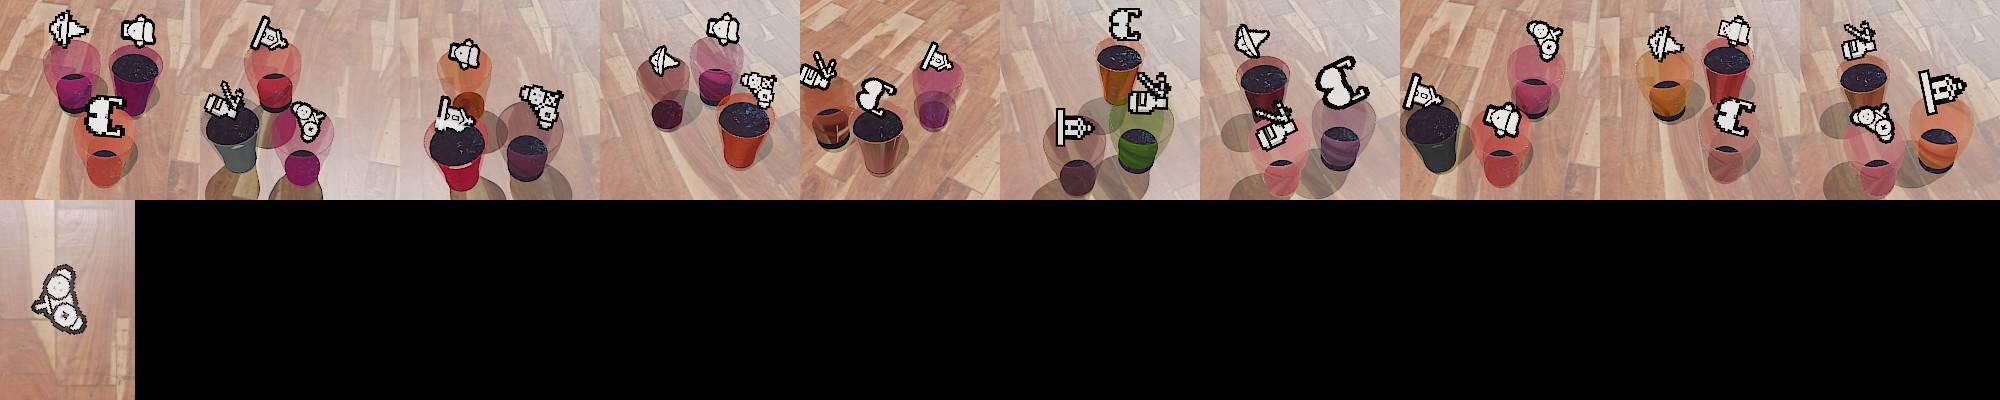icon: (30, 263, 88, 336), (1317, 54, 1372, 111), (1917, 68, 1967, 115), (1126, 69, 1173, 115), (1255, 103, 1298, 152), (519, 83, 564, 129), (1849, 102, 1897, 143), (84, 94, 128, 138), (203, 78, 246, 121), (1053, 105, 1097, 147), (1711, 95, 1755, 137), (435, 93, 477, 136), (1525, 18, 1565, 62), (854, 76, 898, 115), (799, 48, 840, 89), (49, 10, 91, 49), (1482, 100, 1523, 139), (290, 99, 326, 142), (738, 71, 778, 109), (1841, 21, 1878, 62), (1403, 71, 1440, 112), (1647, 23, 1685, 62), (250, 15, 289, 52), (1108, 6, 1144, 43), (705, 12, 741, 47), (1235, 23, 1269, 59), (121, 14, 157, 48), (1717, 15, 1752, 49), (447, 38, 483, 70), (648, 43, 682, 76), (920, 41, 953, 74)
